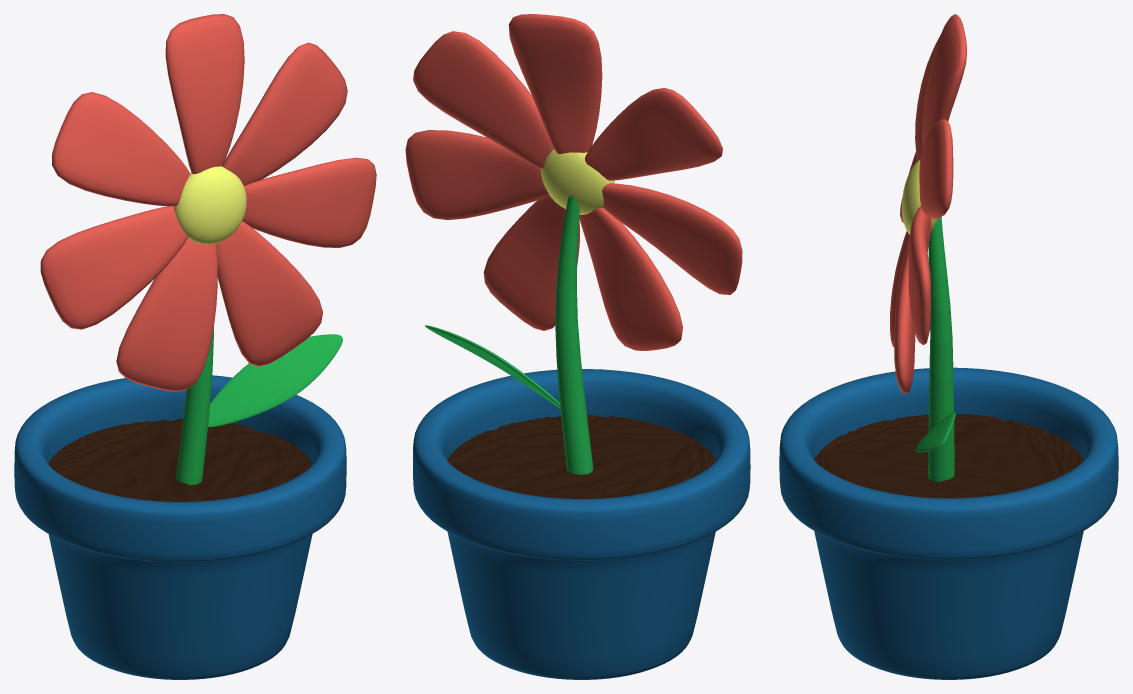
The model's file is kvetina v kvetinaci.fbx.
3 renders of one model, left to right at view 1: azimuth 30°, elevation 25°; view 2: azimuth 150°, elevation 25°; view 3: azimuth 270°, elevation 25°, orthographic. The views are drawn at different scales.
Parts seen in each view (by area): view 1: Plane.007, Cylinder.019, Cylinder.020, Cylinder.021, Sphere; view 2: Cylinder.019, Plane.007, Cylinder.020, Cylinder.021, Sphere; view 3: Cylinder.019, Cylinder.020, Plane.007, Cylinder.021, Sphere.
Boxes of the visible parts, x1,y1,x2,y2 form: Plane.007: (40, 14, 376, 391); Cylinder.019: (14, 375, 346, 679); Cylinder.020: (48, 419, 312, 501); Cylinder.021: (176, 328, 342, 485); Sphere: (173, 166, 246, 244); Cylinder.019: (413, 369, 750, 679); Plane.007: (405, 14, 742, 350); Cylinder.020: (447, 415, 715, 498); Cylinder.021: (425, 195, 593, 474); Sphere: (540, 149, 614, 214); Cylinder.019: (779, 367, 1118, 679); Cylinder.020: (814, 414, 1083, 498); Plane.007: (890, 14, 966, 394); Cylinder.021: (915, 217, 955, 482); Sphere: (902, 160, 938, 234).
Size of the model in its own units: 231 by 405 by 200.
